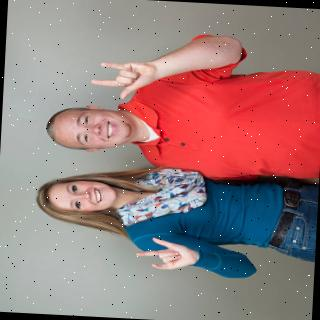I Love You: (75, 53, 163, 99), (134, 227, 202, 277)
